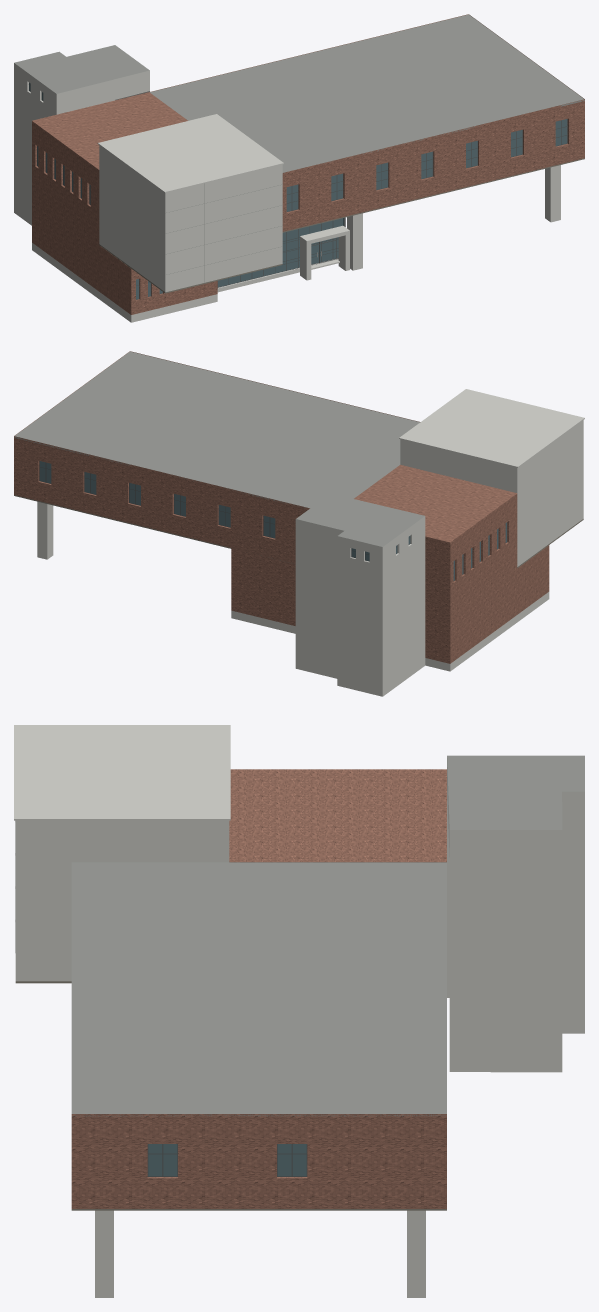
3 views of the same model, one above another, from view 1: azimuth 30°, elevation 25°; view 2: azimuth 150°, elevation 25°; view 3: azimuth 270°, elevation 25° (orthographic). The views are drawn at different scales.
Parts seen in each view (by area): view 1: church__bridge_roof, church__sanctuary_white, church__bridge_front_wall, church__sanctuary_roof_cap, church__sanctuary_side_wall, church__rear_sanctuary, church__rear_service_core_roof, church__rear_service_core_5_wall, church__bridge_front_glass, church__entry_curtain_glass, church__rear_service_core_0_wall, church__piloti_columns (+13 smaller); view 2: church__bridge_roof, church__bridge_rear_wall, church__sanctuary_white, church__rear_sanctuary, church__sanctuary_roof_cap, church__sanctuary_side_wall, church__rear_service_core_4_wall, church__rear_service_core_5_wall, church__rear_service_core_2_wall, church__lobby_back, church__rear_service_core_roof, church__lobby_side_wall (+4 smaller); view 3: church__bridge_roof, church__bridge_end_wall, church__rear_service_core_1_wall, church__sanctuary_roof_cap, church__rear_sanctuary, church__sanctuary_white, church__rear_service_core_roof, church__rear_service_core_3_wall, church__piloti_columns, church__bridge_end_glass, church__bridge_soffit.
Part boxes in pixels (x1,y1,x2,y2): church__bridge_roof: (150,14,584,172); church__sanctuary_white: (99,145,282,292); church__bridge_front_wall: (282,99,584,231); church__sanctuary_roof_cap: (97,114,283,192); church__sanctuary_side_wall: (32,121,99,291); church__rear_sanctuary: (32,92,187,169); church__rear_service_core_roof: (14,45,149,93); church__rear_service_core_5_wall: (14,63,56,225); church__bridge_front_glass: (286,119,567,211); church__entry_curtain_glass: (218,218,343,286); church__rear_service_core_0_wall: (56,70,149,114); church__piloti_columns: (347,165,560,270); church__bridge_roof: (14,351,419,508); church__bridge_rear_wall: (14,436,309,562); church__sanctuary_white: (400,420,583,566); church__rear_sanctuary: (354,464,516,663); church__sanctuary_roof_cap: (399,389,584,467); church__sanctuary_side_wall: (450,494,517,663); church__rear_service_core_4_wall: (337,536,382,696); church__rear_service_core_5_wall: (382,516,425,696); church__rear_service_core_2_wall: (295,519,343,678); church__lobby_back: (231,547,295,625); church__rear_service_core_roof: (296,493,424,546); church__lobby_side_wall: (517,545,549,614); church__bridge_roof: (71,862,446,1116); church__bridge_end_wall: (71,1114,446,1208); church__rear_service_core_1_wall: (449,830,562,1072); church__sanctuary_roof_cap: (14,725,230,820); church__rear_sanctuary: (229,769,446,862); church__sanctuary_white: (15,820,229,981); church__rear_service_core_roof: (447,755,584,829); church__rear_service_core_3_wall: (562,791,584,1033); church__piloti_columns: (95,1210,425,1297); church__bridge_end_glass: (148,1144,306,1176); church__bridge_soffit: (71,1209,446,1210).
Bounding box in the file's own units: 53.68 × 18.31 × 37.53.
6 materials, 1 textured.
